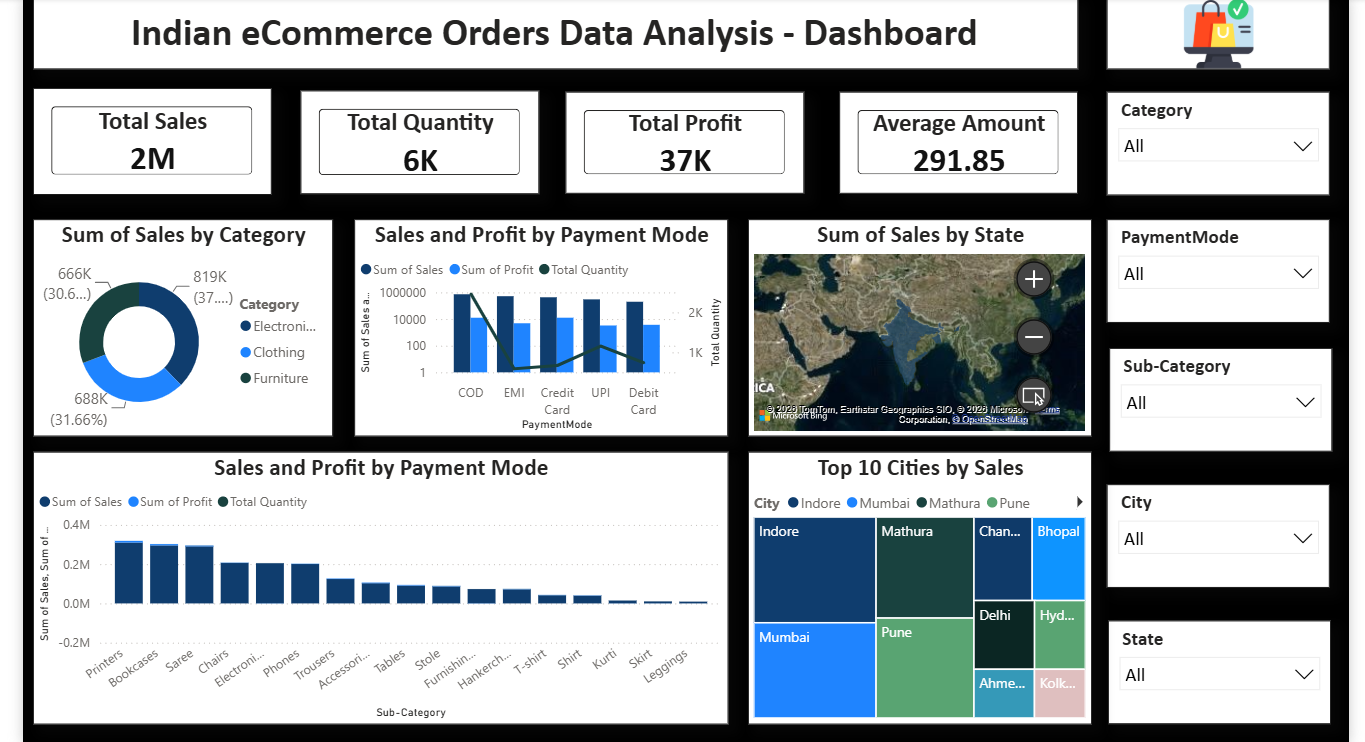

Layout of this report page (visuals, bound fields, positions):
{"tool":"powerbi","page":{"name":"Page 1","canvas":[1280,720],"ordinal":0},"visuals":[{"type":"textbox","box":[9.7,0,1008.6,68.8],"z":0},{"type":"image","box":[1045.6,0,215.4,68.6],"z":1000},{"type":"cardVisual","fields":{"Data":["Sum(Details.Sales)"]},"box":[9.6,86.4,230.5,102.9],"z":2000},{"type":"cardVisual","fields":{"Data":["Details.Total Quantity"]},"box":[267.6,89.2,230.5,100.2],"z":3000},{"type":"cardVisual","fields":{"Data":["Sum(Details.Profit)"]},"box":[524.2,90.6,230.5,98.8],"z":4000},{"type":"cardVisual","fields":{"Data":["Details.Average Amount"]},"box":[787.7,90.6,230.5,98.8],"z":5000},{"type":"slicer","fields":{"Values":["Details.Category"]},"box":[1045.6,90.6,215.4,100.2],"z":6000},{"type":"slicer","fields":{"Values":["Details.PaymentMode"]},"box":[1045.6,214.1,215.4,100.2],"z":7000},{"type":"slicer","fields":{"Values":["Details.Sub-Category"]},"box":[1048.4,337.6,215.4,100.2],"z":8000},{"type":"slicer","fields":{"Values":["Orders.City"]},"box":[1045.6,469.3,215.4,100.2],"z":10000},{"type":"slicer","fields":{"Values":["Orders.State"]},"box":[1047,601,215.4,100.2],"z":11000},{"type":"donutChart","fields":{"Category":["Details.Category"],"Y":["Sum(Details.Sales)"]},"box":[9.6,214.1,289.5,209.9],"z":12000},{"type":"lineClusteredColumnComboChart","title":"Sales and Profit by Payment Mode","fields":{"Category":["Details.PaymentMode"],"Y":["Sum(Details.Sales)","Sum(Details.Profit)"],"Y2":["Details.Total Quantity"]},"box":[319.7,214.1,360.9,209.9],"z":13000},{"type":"columnChart","title":"Sales and Profit by Payment Mode","fields":{"Category":["Details.Sub-Category"],"Y":["Sum(Details.Sales)","Sum(Details.Profit)","Details.Total Quantity"]},"box":[9.6,437.7,671,263.5],"z":14000},{"type":"filledMap","fields":{"Category":["Orders.State"]},"box":[699.8,214.1,332.1,209.9],"z":15000},{"type":"treemap","title":"Top 10 Cities by Sales ","fields":{"Group":["Orders.City"],"Values":["Sum(Details.Sales)"]},"box":[700,438,332,263],"z":16000}]}

Visuals, with their boxes in screenshot pixels (x1, y1, x2, y2):
textbox: bbox=(21, 0, 1085, 62)
image: bbox=(1114, 0, 1341, 62)
cardVisual - Sum(Details.Sales): bbox=(21, 80, 264, 189)
cardVisual - Details.Total Quantity: bbox=(293, 83, 536, 189)
cardVisual - Sum(Details.Profit): bbox=(564, 85, 807, 189)
cardVisual - Details.Average Amount: bbox=(842, 85, 1085, 189)
slicer - Details.Category: bbox=(1114, 85, 1341, 191)
slicer - Details.PaymentMode: bbox=(1114, 215, 1341, 321)
slicer - Details.Sub-Category: bbox=(1117, 346, 1344, 451)
slicer - Orders.City: bbox=(1114, 484, 1341, 590)
slicer - Orders.State: bbox=(1115, 623, 1342, 729)
donutChart - Details.Category x Sum(Details.Sales): bbox=(21, 215, 326, 437)
"Sales and Profit by Payment Mode" lineClusteredColumnComboChart: bbox=(348, 215, 729, 437)
"Sales and Profit by Payment Mode" columnChart: bbox=(21, 451, 729, 729)
filledMap - Orders.State: bbox=(749, 215, 1099, 437)
"Top 10 Cities by Sales " treemap: bbox=(749, 451, 1099, 729)
